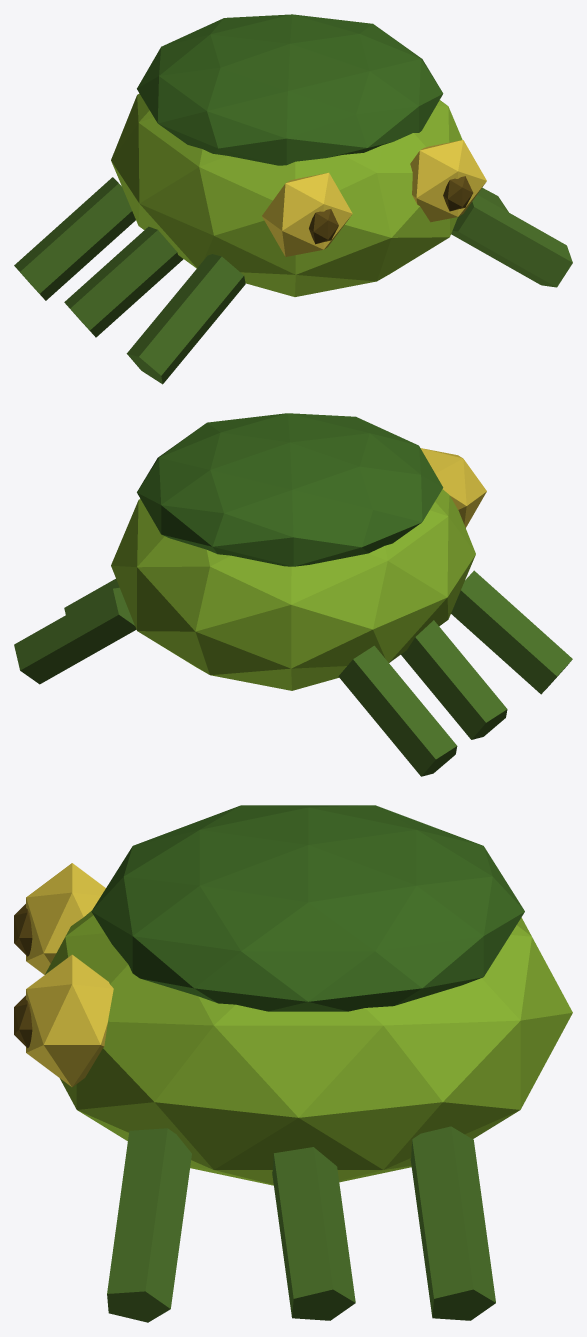
Rendered from crawler_v01-wiMrgRoV.glb.
3 views of the same model, one above another, from view 1: azimuth 30°, elevation 25°; view 2: azimuth 150°, elevation 25°; view 3: azimuth 270°, elevation 25° (orthographic). The views are drawn at different scales.
Visible parts, largest first — view 1: Crawler; view 2: Crawler; view 3: Crawler.
Boxes of the visible parts, <box> form: Crawler: <box>14,14,572,384</box>; Crawler: <box>14,413,572,776</box>; Crawler: <box>14,805,572,1322</box>.
Size of the model in its own units: 1.11 by 0.5974 by 0.8763.
